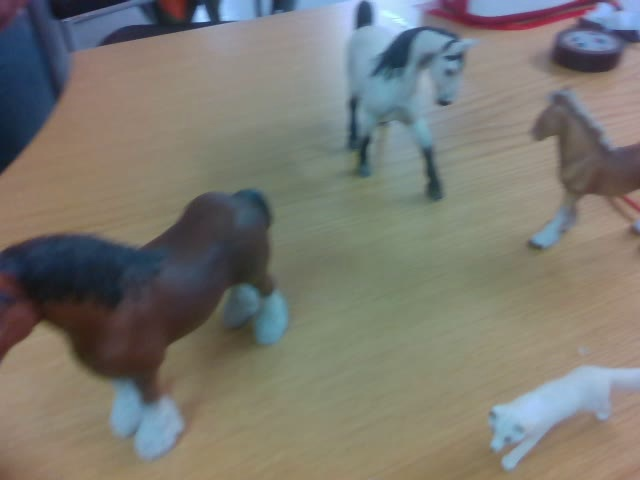toy: (342, 1, 479, 201), (484, 365, 640, 470)
